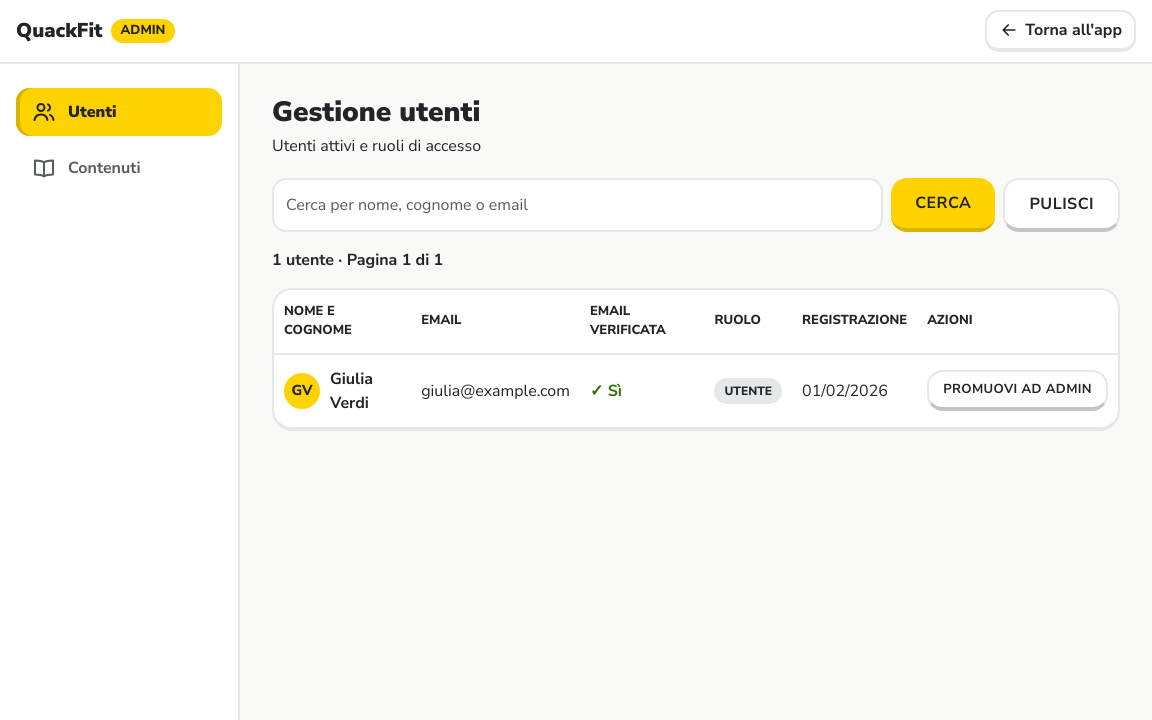
Scenario: gestione utenti › un 403 mostra "non hai i permessi" e ricarica la lista
This screenshot has width=1152, height=720.
Click the button "Promuovi ad ADMIN". click: coordinates (1018, 391)
box: [927,370,1108,411]
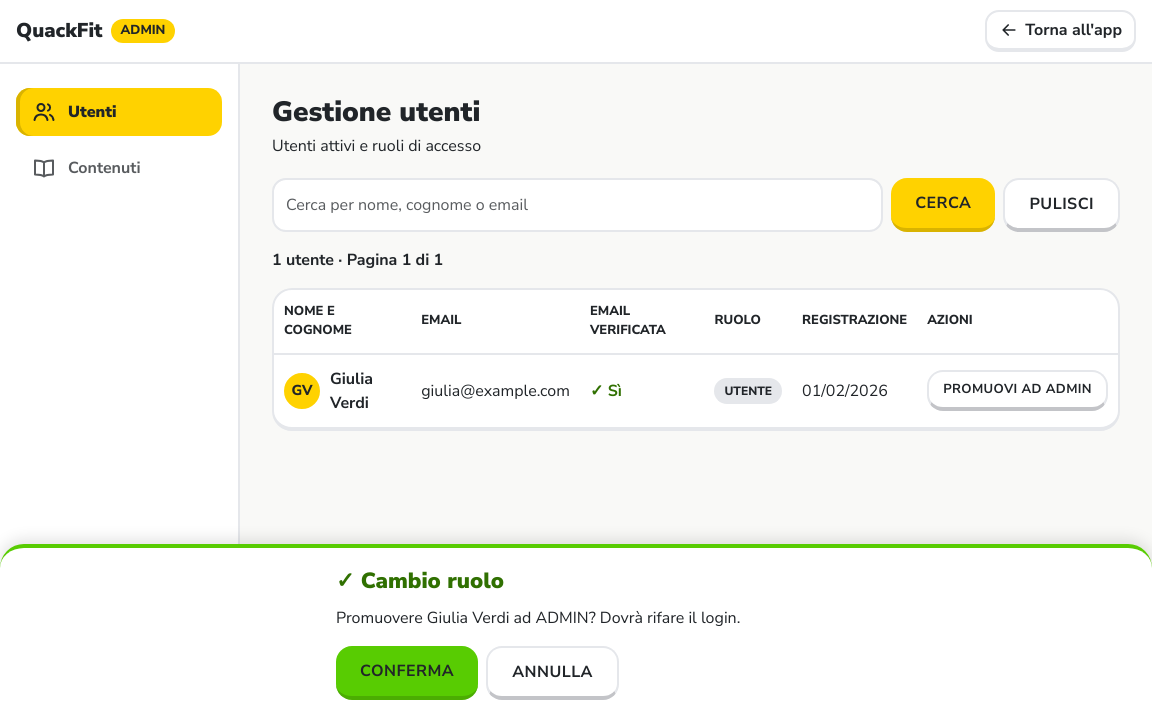
Click the button "Conferma". click: coordinates (407, 673)
box: [336,646,478,700]
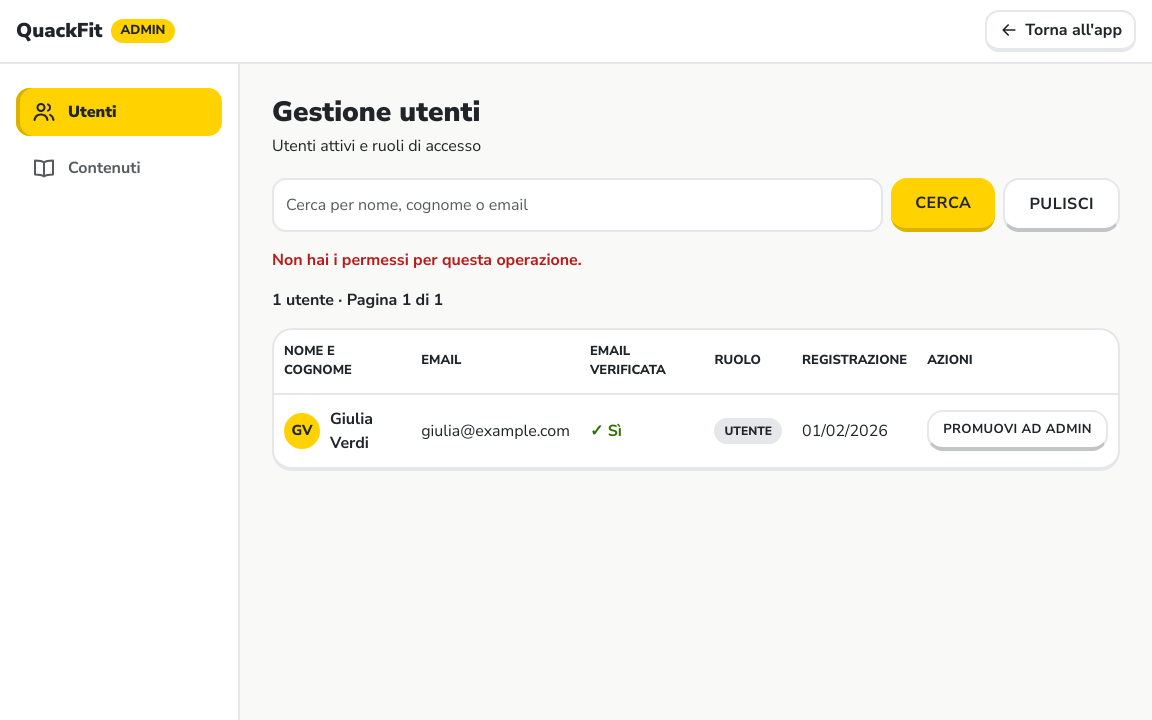
Check: the message reads "Non hai i permessi per questa operazione.", box [272,249,582,271]
Check: the dialog is gone
